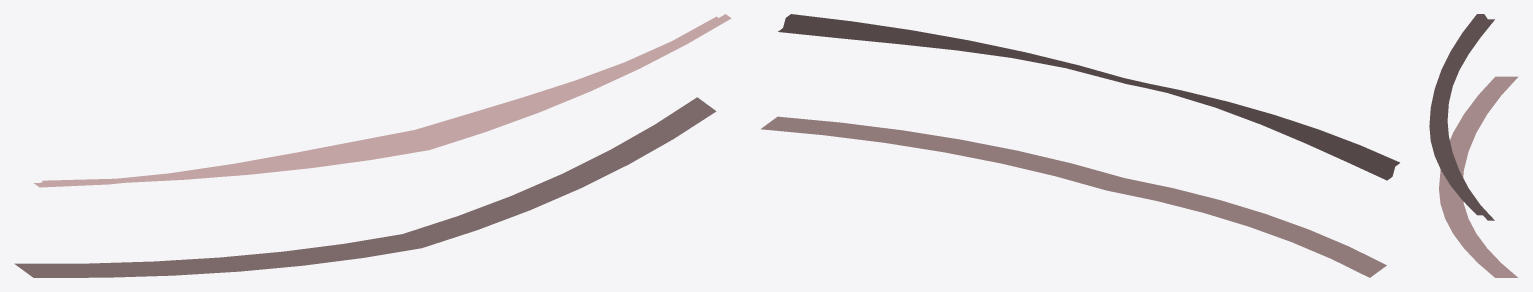
The model's file is smile.glb.
The picture shows the model from 3 angles, left to right: view 1: azimuth 30°, elevation 25°; view 2: azimuth 150°, elevation 25°; view 3: azimuth 270°, elevation 25°; orthographic projection. The views are drawn at different scales.
Parts seen in each view (by area): view 1: mouths_smile; view 2: mouths_smile; view 3: mouths_smile.
Part boxes in pixels (box(x1,y1,x2,y2)): mouths_smile: box(14, 14, 731, 277); mouths_smile: box(761, 14, 1399, 277); mouths_smile: box(1429, 14, 1518, 277).
Size of the model in its own units: 0.55 by 0.095 by 0.103.
